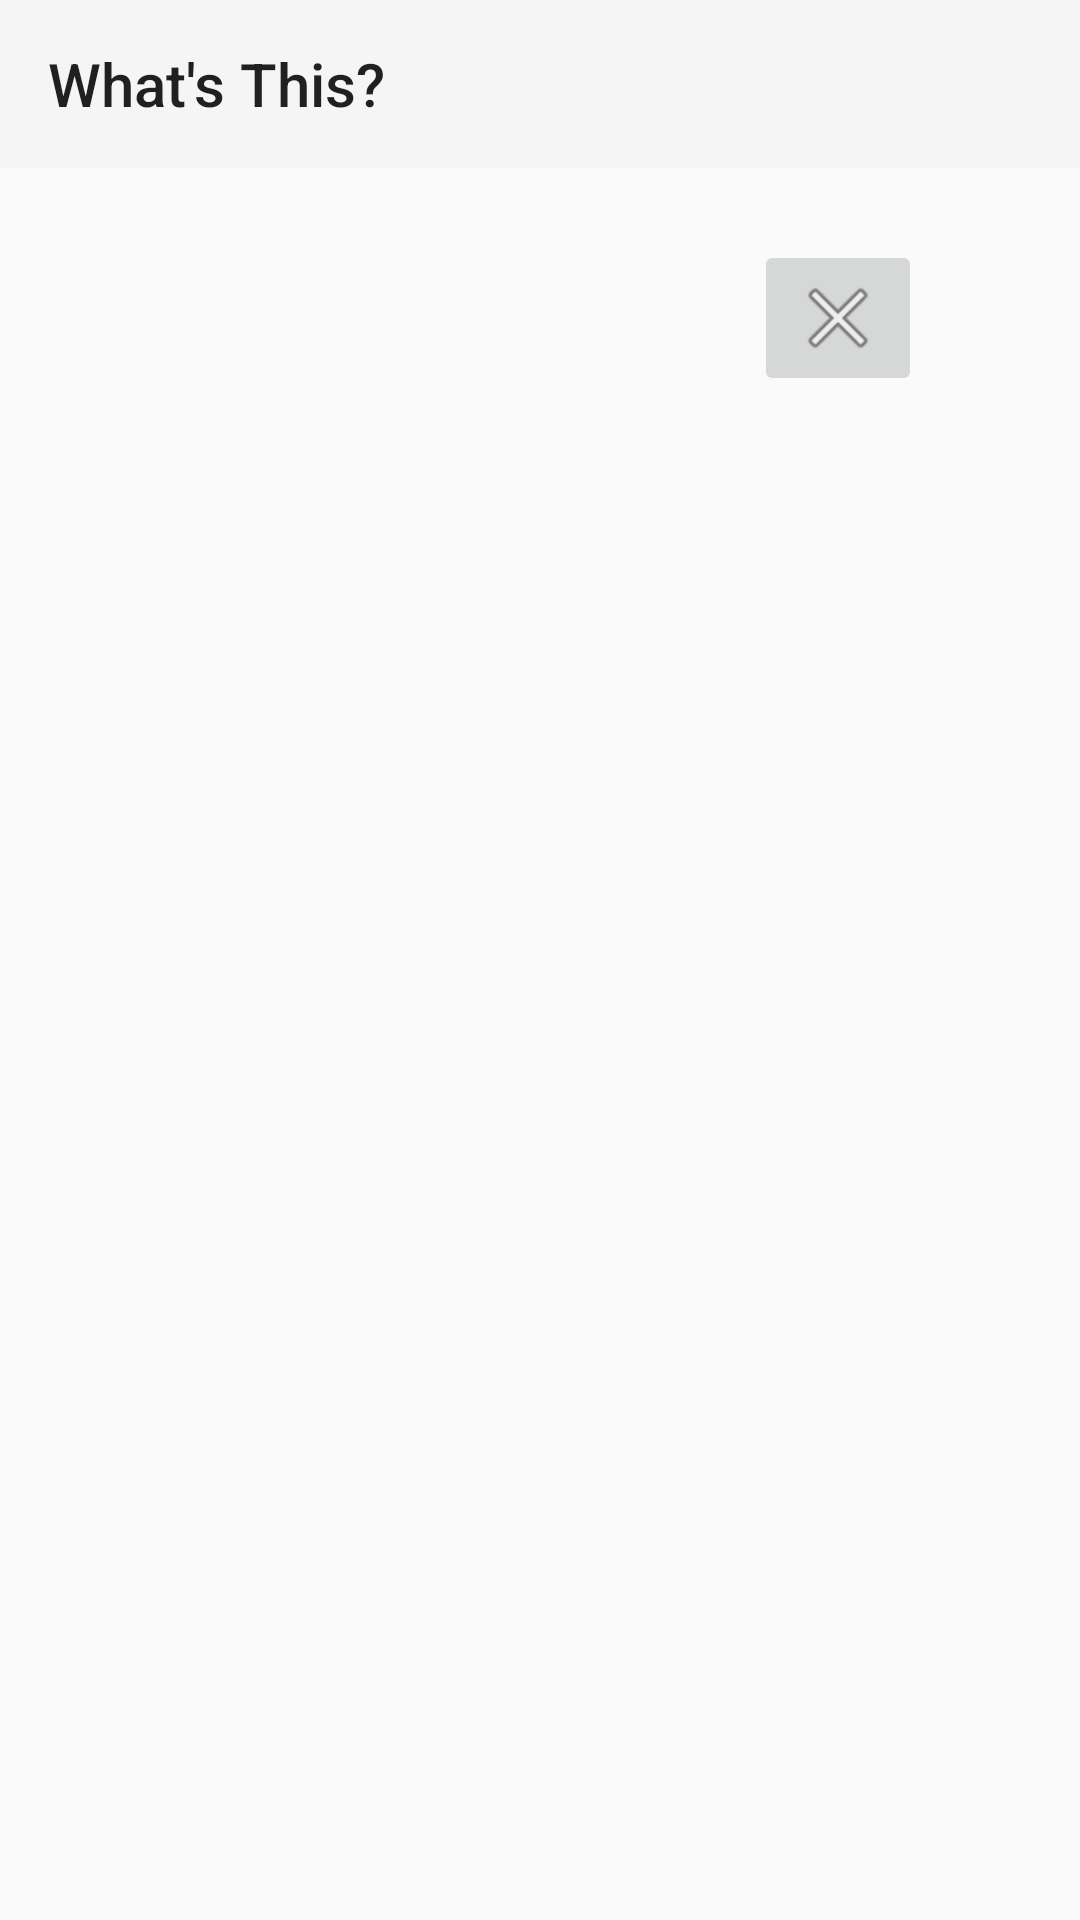

Screen size 1080 × 1920. Icon name, then its center in pixels as point (x, y):
close this photo search: point (838, 318)
